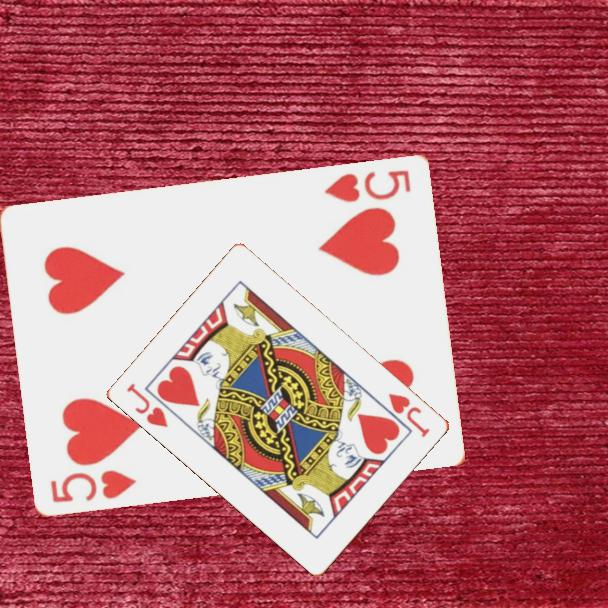h05: (47, 465, 140, 505), (321, 166, 414, 205)
h11: (385, 389, 433, 440), (123, 380, 171, 431)
